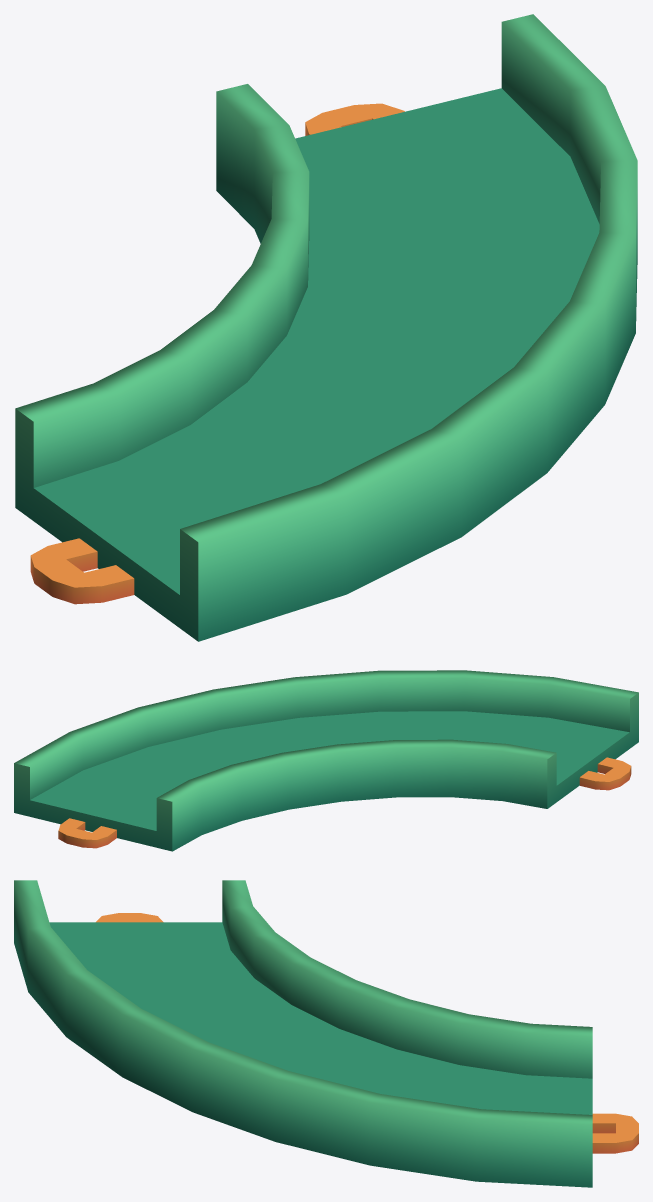
The model's file is track-narrow-corner-small.fbx.
3 renders of one model, top to bottom at view 1: azimuth 30°, elevation 25°; view 2: azimuth 150°, elevation 25°; view 3: azimuth 270°, elevation 25°, orthographic. The views are drawn at different scales.
Visible parts, largest first — view 1: track-narrow-corner-small; view 2: track-narrow-corner-small; view 3: track-narrow-corner-small.
Part boxes in pixels (left/top/right/bottom): track-narrow-corner-small: left=15, top=14, right=637, bottom=641; track-narrow-corner-small: left=14, top=670, right=638, bottom=851; track-narrow-corner-small: left=14, top=880, right=638, bottom=1187.
Bounding box in the file's own units: 270 × 30 × 270.
